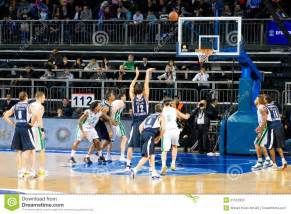basketball: (168, 11, 177, 21)
